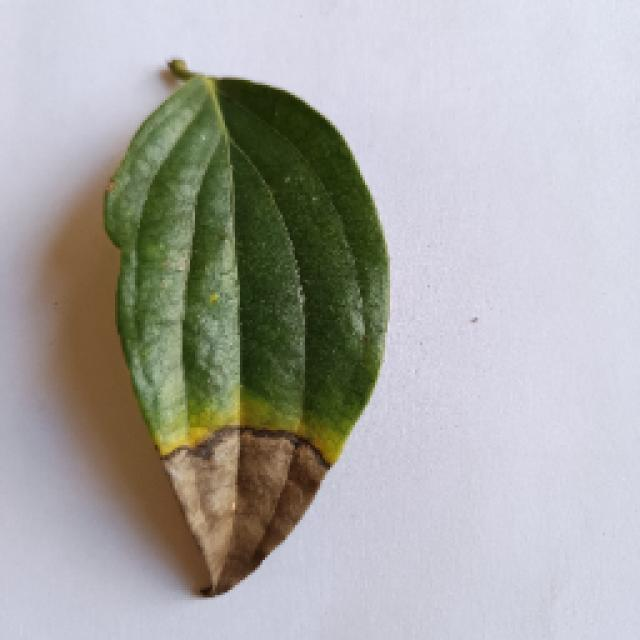footrot: (62, 68, 398, 600)
